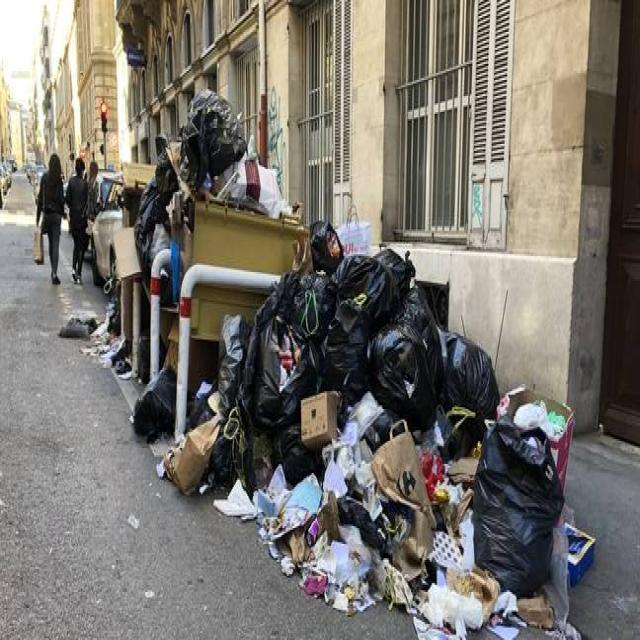garbage: (96, 120, 610, 632)
